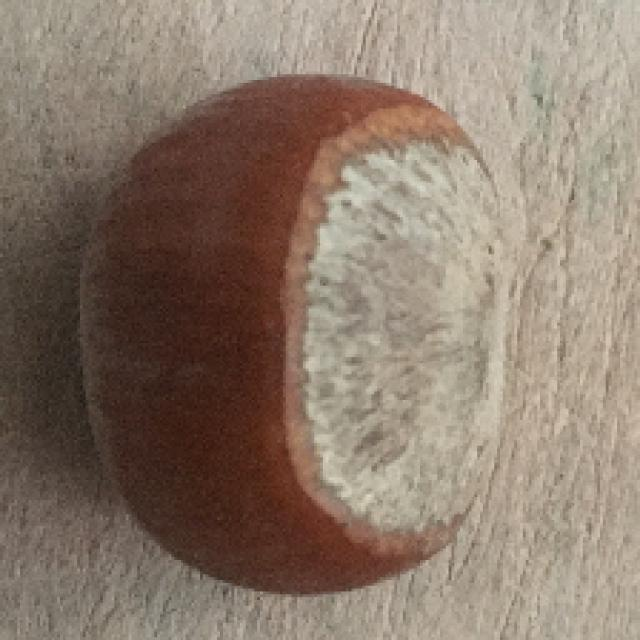qualityHazelnut: (73, 74, 508, 596)
